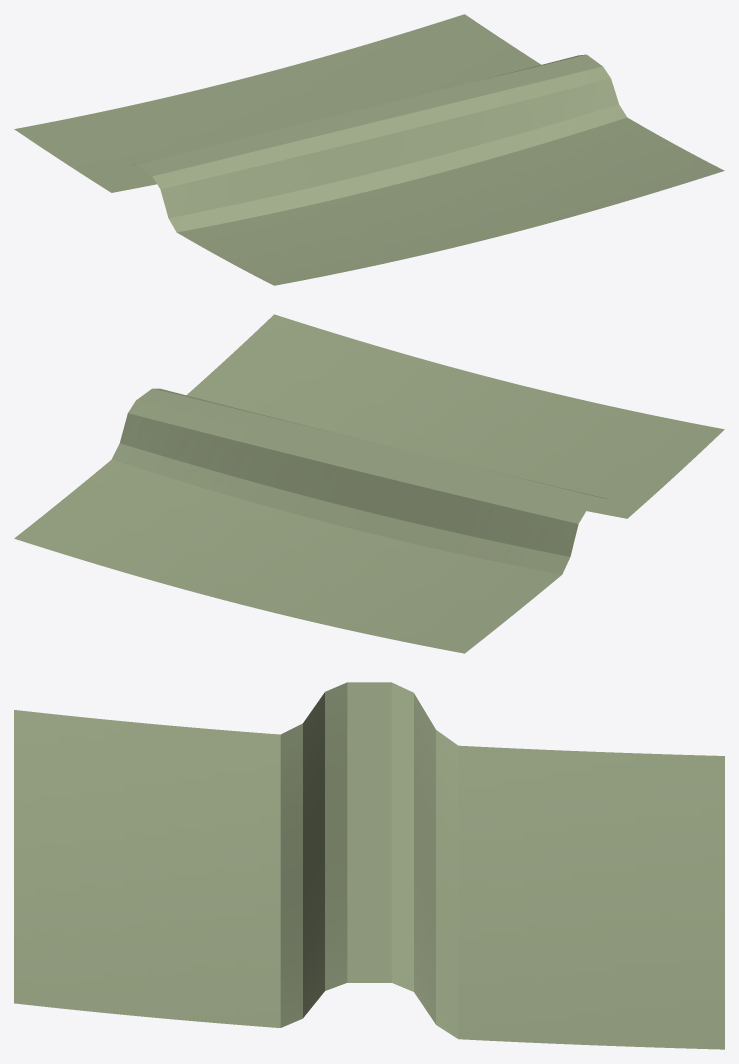
The model's file is valley-4-12.glb.
The picture shows the model from 3 angles, top to bottom: view 1: azimuth 30°, elevation 25°; view 2: azimuth 150°, elevation 25°; view 3: azimuth 270°, elevation 25°; orthographic projection. The views are drawn at different scales.
Parts seen in each view (by area): view 1: valley-4-12; view 2: valley-4-12; view 3: valley-4-12.
Boxes of the visible parts, x1=… form: valley-4-12: x1=14, y1=14, x2=724, y2=285; valley-4-12: x1=14, y1=314, x2=724, y2=653; valley-4-12: x1=14, y1=682, x2=724, y2=1049.
Bounding box in the file's own units: 256 × 32.36 × 256.
